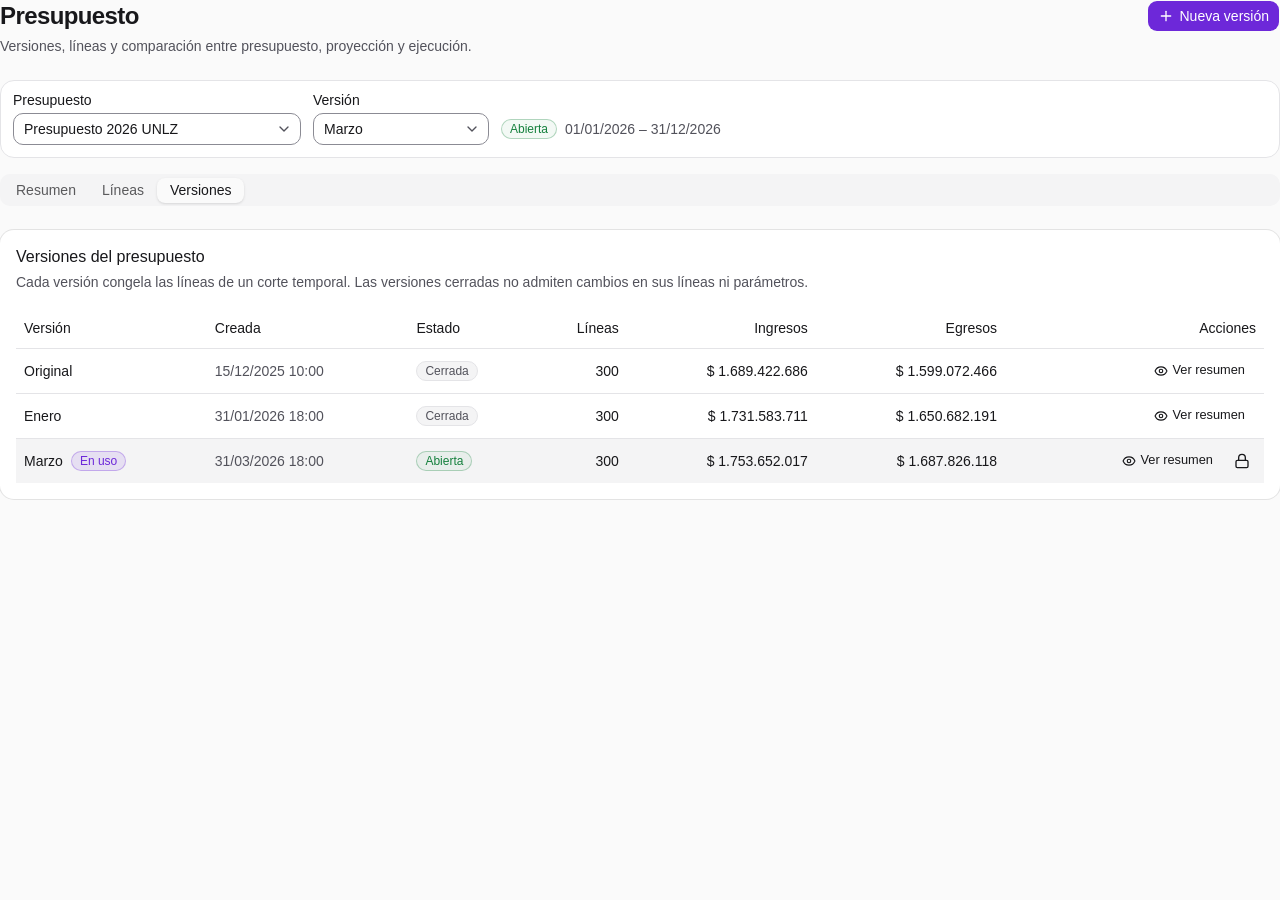
Test: PresupuestoPage › cierra una versión abierta y refleja el estado inmutable
Check: the icon "Abierta" in the row of "En uso" is shown, box [425,454,463,468]
Click the button named "Cerrar la versión Marzo": (1242, 460) [1228,446,1256,474]
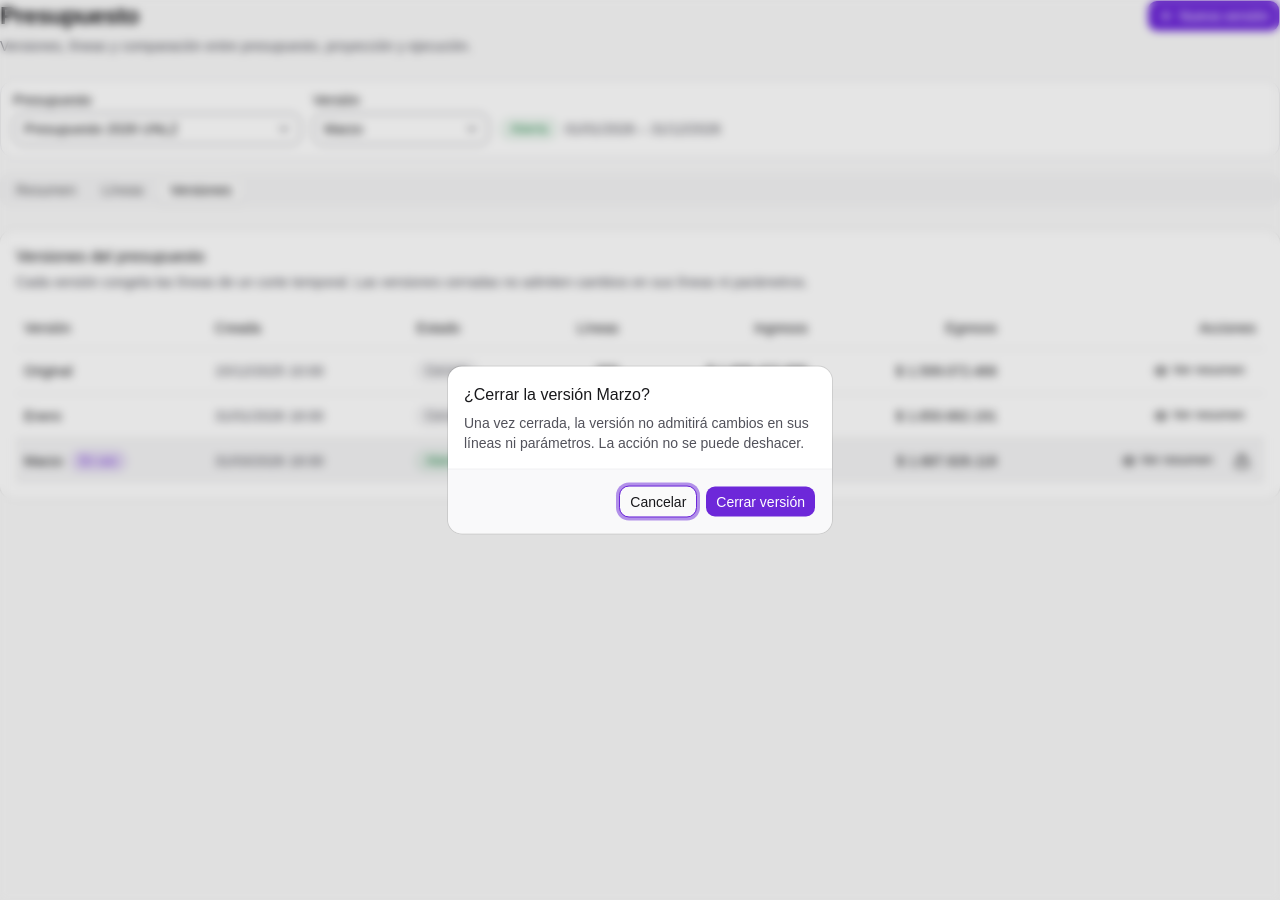
Click the button "Cerrar versión": (761, 502) [705,486,816,518]
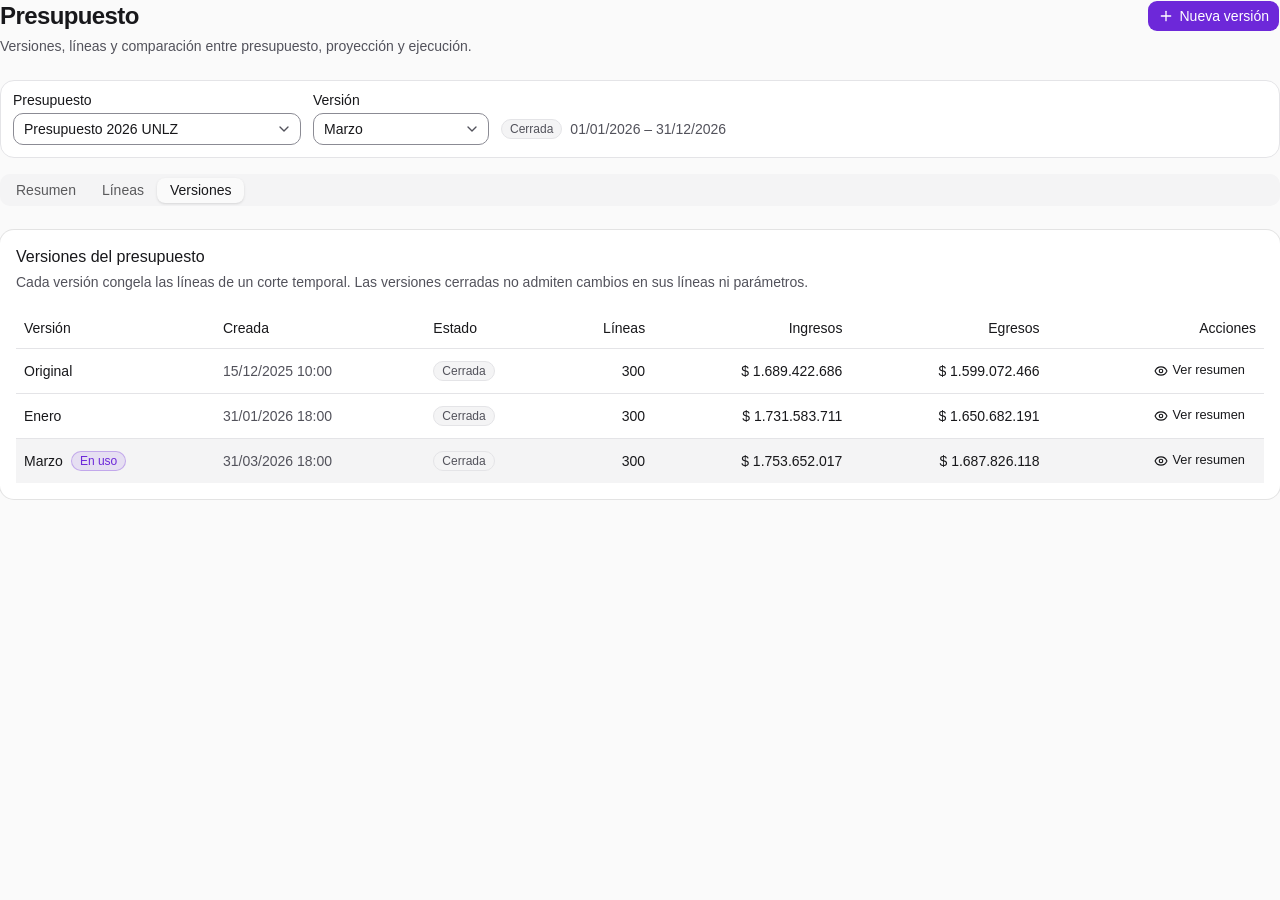
Check: the text "Cerrada" in the row of "En uso" is shown, box [442,454,486,468]
Check: the heading "Cerrar la versión Marzo" is gone
